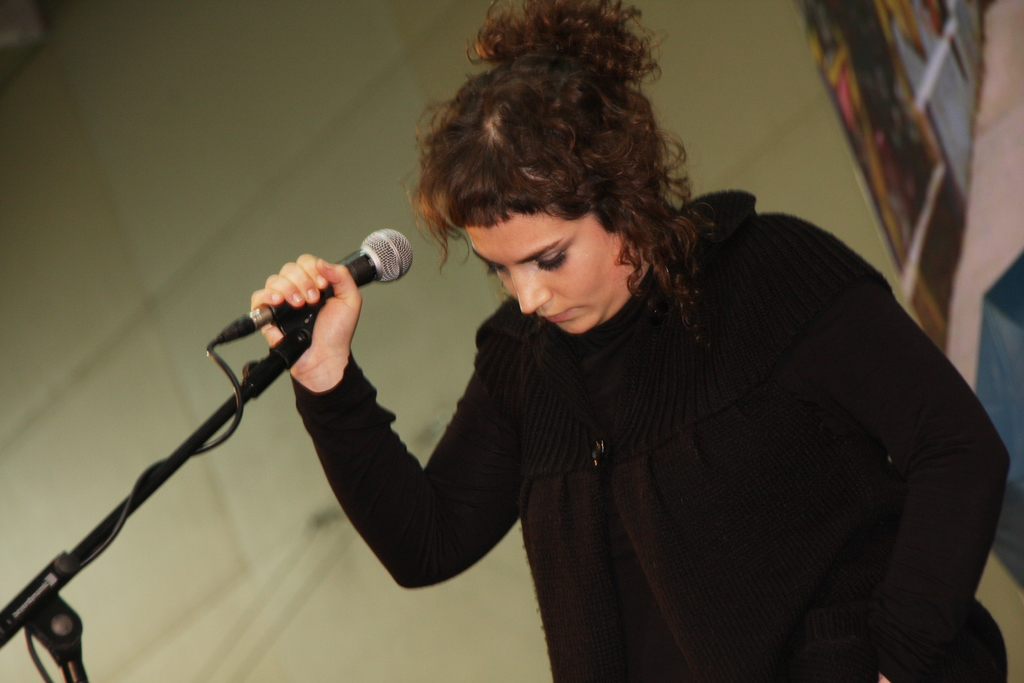Human_hand: (232, 267, 378, 415)
